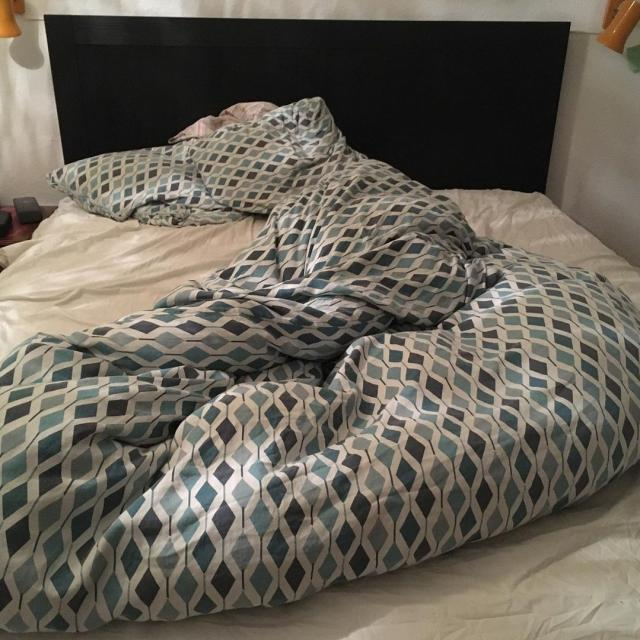bed: (24, 87, 640, 622)
